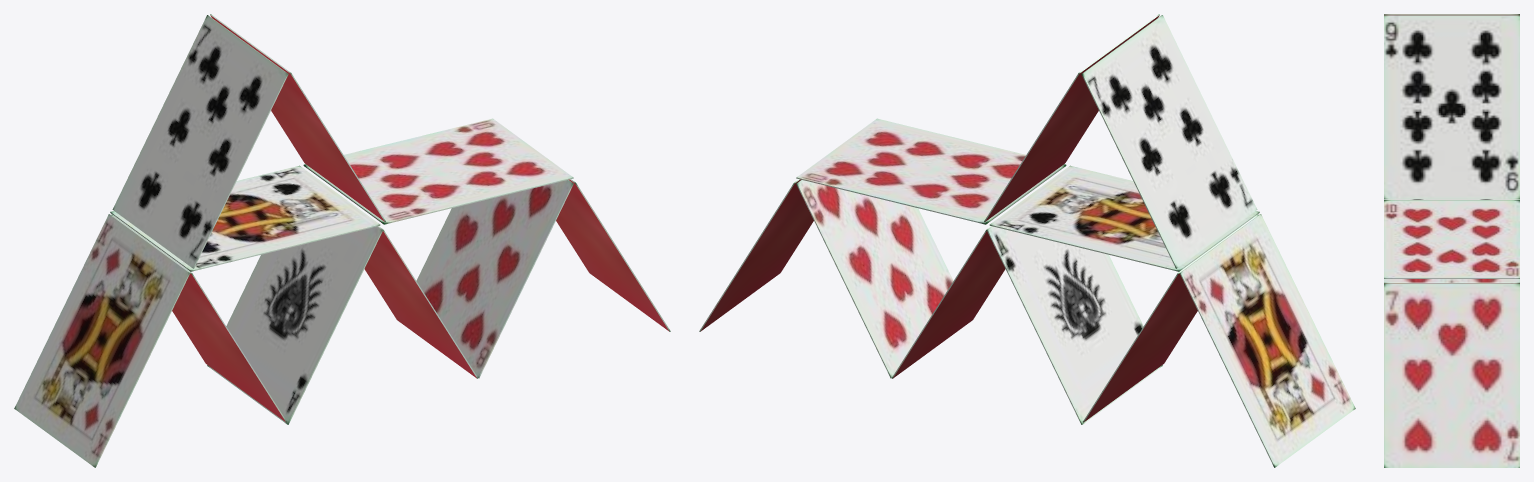
File: Card.fbx
3 renders of one model, left to right at view 1: azimuth 30°, elevation 25°; view 2: azimuth 150°, elevation 25°; view 3: azimuth 270°, elevation 25°, orthographic. The views are drawn at different scales.
Parts seen in each view (by area): view 1: Card.002, Card.009, Card.001, Card, Card.007, Card.005, Card.008, Card.003, Card.006, Card.004; view 2: Card.002, Card.009, Card.001, Card, Card.007, Card.005, Card.008, Card.003, Card.006, Card.004; view 3: Card.008, Card.006, Card.007, Card.004, Card, Card.009.
Boxes of the visible parts, x1,y1,x2,y2 form: Card.002: [14, 214, 190, 467]; Card.009: [112, 15, 288, 268]; Card.001: [207, 226, 382, 424]; Card: [416, 180, 573, 378]; Card.007: [303, 118, 573, 224]; Card.005: [110, 165, 380, 271]; Card.008: [210, 14, 385, 221]; Card.003: [111, 214, 286, 422]; Card.006: [556, 179, 670, 331]; Card.004: [364, 226, 477, 378]; Card.002: [1179, 214, 1355, 467]; Card.009: [1081, 15, 1257, 268]; Card.001: [987, 226, 1162, 424]; Card: [796, 180, 953, 378]; Card.007: [796, 118, 1066, 224]; Card.005: [989, 165, 1259, 271]; Card.008: [984, 14, 1159, 221]; Card.003: [1083, 214, 1258, 422]; Card.006: [699, 179, 813, 331]; Card.004: [892, 226, 1005, 378]; Card.008: [1384, 15, 1519, 199]; Card.006: [1384, 284, 1519, 467]; Card.007: [1384, 200, 1519, 278]; Card.004: [1384, 279, 1519, 282]; Card: [1384, 282, 1519, 283]; Card.009: [1384, 14, 1519, 15].
Size of the model in its own units: 0.5316 by 0.1287 by 0.3099.
Materials: 1 (1 with a texture image).
